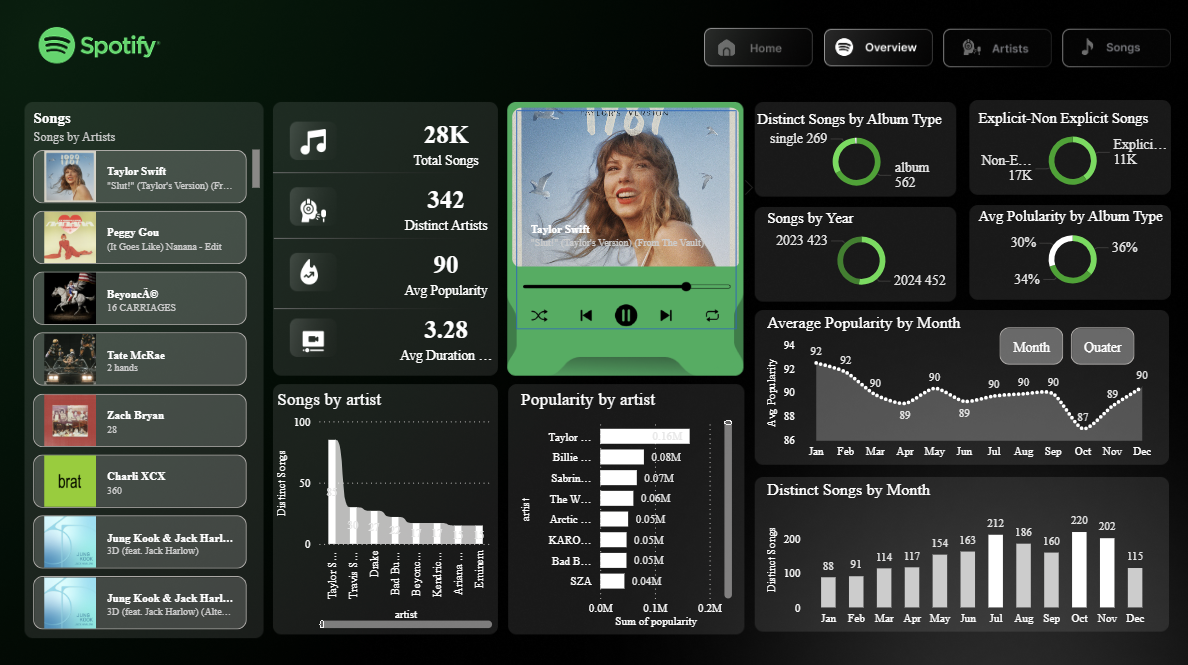

The dashboard page shown, as its layout file describes it:
{"tool":"powerbi","page":{"name":"Overview","canvas":[1280,720],"ordinal":1},"visuals":[{"type":"ribbonChart","title":"Songs by artist","fields":{"Category":["Top-50-World.artist"],"Y":["_Measures.Distinct Songs"]},"box":[295.9,416.4,239.4,260.2],"z":0},{"type":"areaChart","title":"Average Popularity by Month","fields":{"Category":["Top-50-World.Month","Top-50-World.Qtr"],"Y":["_Measures.Avg Popularity"]},"box":[818.6,335.7,422.9,161.4],"z":1000},{"type":"barChart","title":"Popularity by artist","fields":{"Category":["Top-50-World.artist"],"Y":["Sum(Top-50-World.popularity)"]},"box":[556.2,416.2,235.3,259.4],"z":2000},{"type":"advancedSlicerVisual","fields":{"Values":["Slicer_option.Slicer_option"]},"box":[1067.1,345.7,154.3,50],"z":3000},{"type":"donutChart","title":"Distinct Songs by Album Type","fields":{"Category":["Top-50-World.album_type"],"Y":["_Measures.Distinct Songs"]},"box":[807.5,118.8,222.5,92.5],"z":4000},{"type":"donutChart","title":"Explicit-Non Explicit Songs","fields":{"Y":["_Measures.Explicit Songs","_Measures.Non-Explicit Songs"]},"box":[1044.3,117.1,211.4,92.9],"z":5000},{"type":"donutChart","title":"Songs by Year","fields":{"Y":["_Measures.Distinct Songs"],"Category":["Top-50-World.Year"]},"box":[818.6,224.3,211.4,92.9],"z":6000},{"type":"donutChart","title":"Avg Polularity by Album Type","fields":{"Category":["Top-50-World.album_type"],"Y":["_Measures.Avg Popularity"]},"box":[1044.3,222.9,211.4,92.9],"z":7000},{"type":"clusteredColumnChart","fields":{"Category":["Top-50-World.Month","Top-50-World.Qtr"],"Y":["_Measures.Distinct Songs"]},"box":[818.6,512.9,422.9,162.9],"z":8000},{"type":"card","fields":{"Values":["_Measures.Total Songs"]},"box":[421.4,117.1,120,70],"z":9000},{"type":"card","fields":{"Values":["_Measures.Distinct Artists"]},"box":[421.4,186.7,120,70],"z":10000},{"type":"card","fields":{"Values":["_Measures.Avg Duration Minutes"]},"box":[421.4,325.7,120,70],"z":11000},{"type":"card","fields":{"Values":["_Measures.Avg Popularity"]},"box":[421.4,256.2,120,70],"z":12000},{"type":"image","box":[322.9,277.9,34.3,27.1],"z":13000},{"type":"image","box":[322.9,352.1,34.3,27.1],"z":14000},{"type":"image","box":[322.9,211.4,34.3,27.1],"z":15000},{"type":"image","box":[322.9,138.6,34.3,27.1],"z":16000},{"type":"advancedSlicerVisual","title":"Songs","fields":{"Values":["Top-50-World.song"]},"box":[36.2,117.5,251.2,567.5],"z":17000},{"type":"advancedSlicerVisual","title":"Songs","fields":{"Values":["Top-50-World.song"]},"box":[524.8,109.8,294.4,182.2],"z":18000},{"type":"image","box":[548.2,256.5,250.6,140],"z":19000},{"type":"shape","box":[556.2,118.8,235,233.8],"z":20000},{"type":"actionButton","box":[758.5,32.5,108.8,40],"z":21000},{"type":"actionButton","box":[887.3,32.5,108.8,40],"z":22000},{"type":"actionButton","box":[1012.3,32.5,108.8,40],"z":23000},{"type":"actionButton","box":[1139.8,32.5,108.8,40],"z":24000}]}

Visuals, with their boxes in screenshot pixels (x1, y1, x2, y2), scaled from the page's 1280x720 canvas onto the 1188x665 screenshot:
"Songs by artist" ribbonChart: 275, 385, 497, 625
"Average Popularity by Month" areaChart: 760, 310, 1152, 459
"Popularity by artist" barChart: 516, 384, 735, 624
advancedSlicerVisual - Slicer_option.Slicer_option: 990, 319, 1134, 365
"Distinct Songs by Album Type" donutChart: 749, 110, 956, 195
"Explicit-Non Explicit Songs" donutChart: 969, 108, 1165, 194
"Songs by Year" donutChart: 760, 207, 956, 293
"Avg Polularity by Album Type" donutChart: 969, 206, 1165, 292
clusteredColumnChart - Top-50-World.Month x Top-50-World.Qtr: 760, 474, 1152, 624
card - _Measures.Total Songs: 391, 108, 502, 173
card - _Measures.Distinct Artists: 391, 172, 502, 237
card - _Measures.Avg Duration Minutes: 391, 301, 502, 365
card - _Measures.Avg Popularity: 391, 237, 502, 301
image: 300, 257, 332, 282
image: 300, 325, 332, 350
image: 300, 195, 332, 220
image: 300, 128, 332, 153
"Songs" advancedSlicerVisual: 34, 109, 267, 633
"Songs" advancedSlicerVisual: 487, 101, 760, 270
image: 509, 237, 741, 366
shape: 516, 110, 734, 326
actionButton: 704, 30, 805, 67
actionButton: 824, 30, 925, 67
actionButton: 940, 30, 1041, 67
actionButton: 1058, 30, 1159, 67
